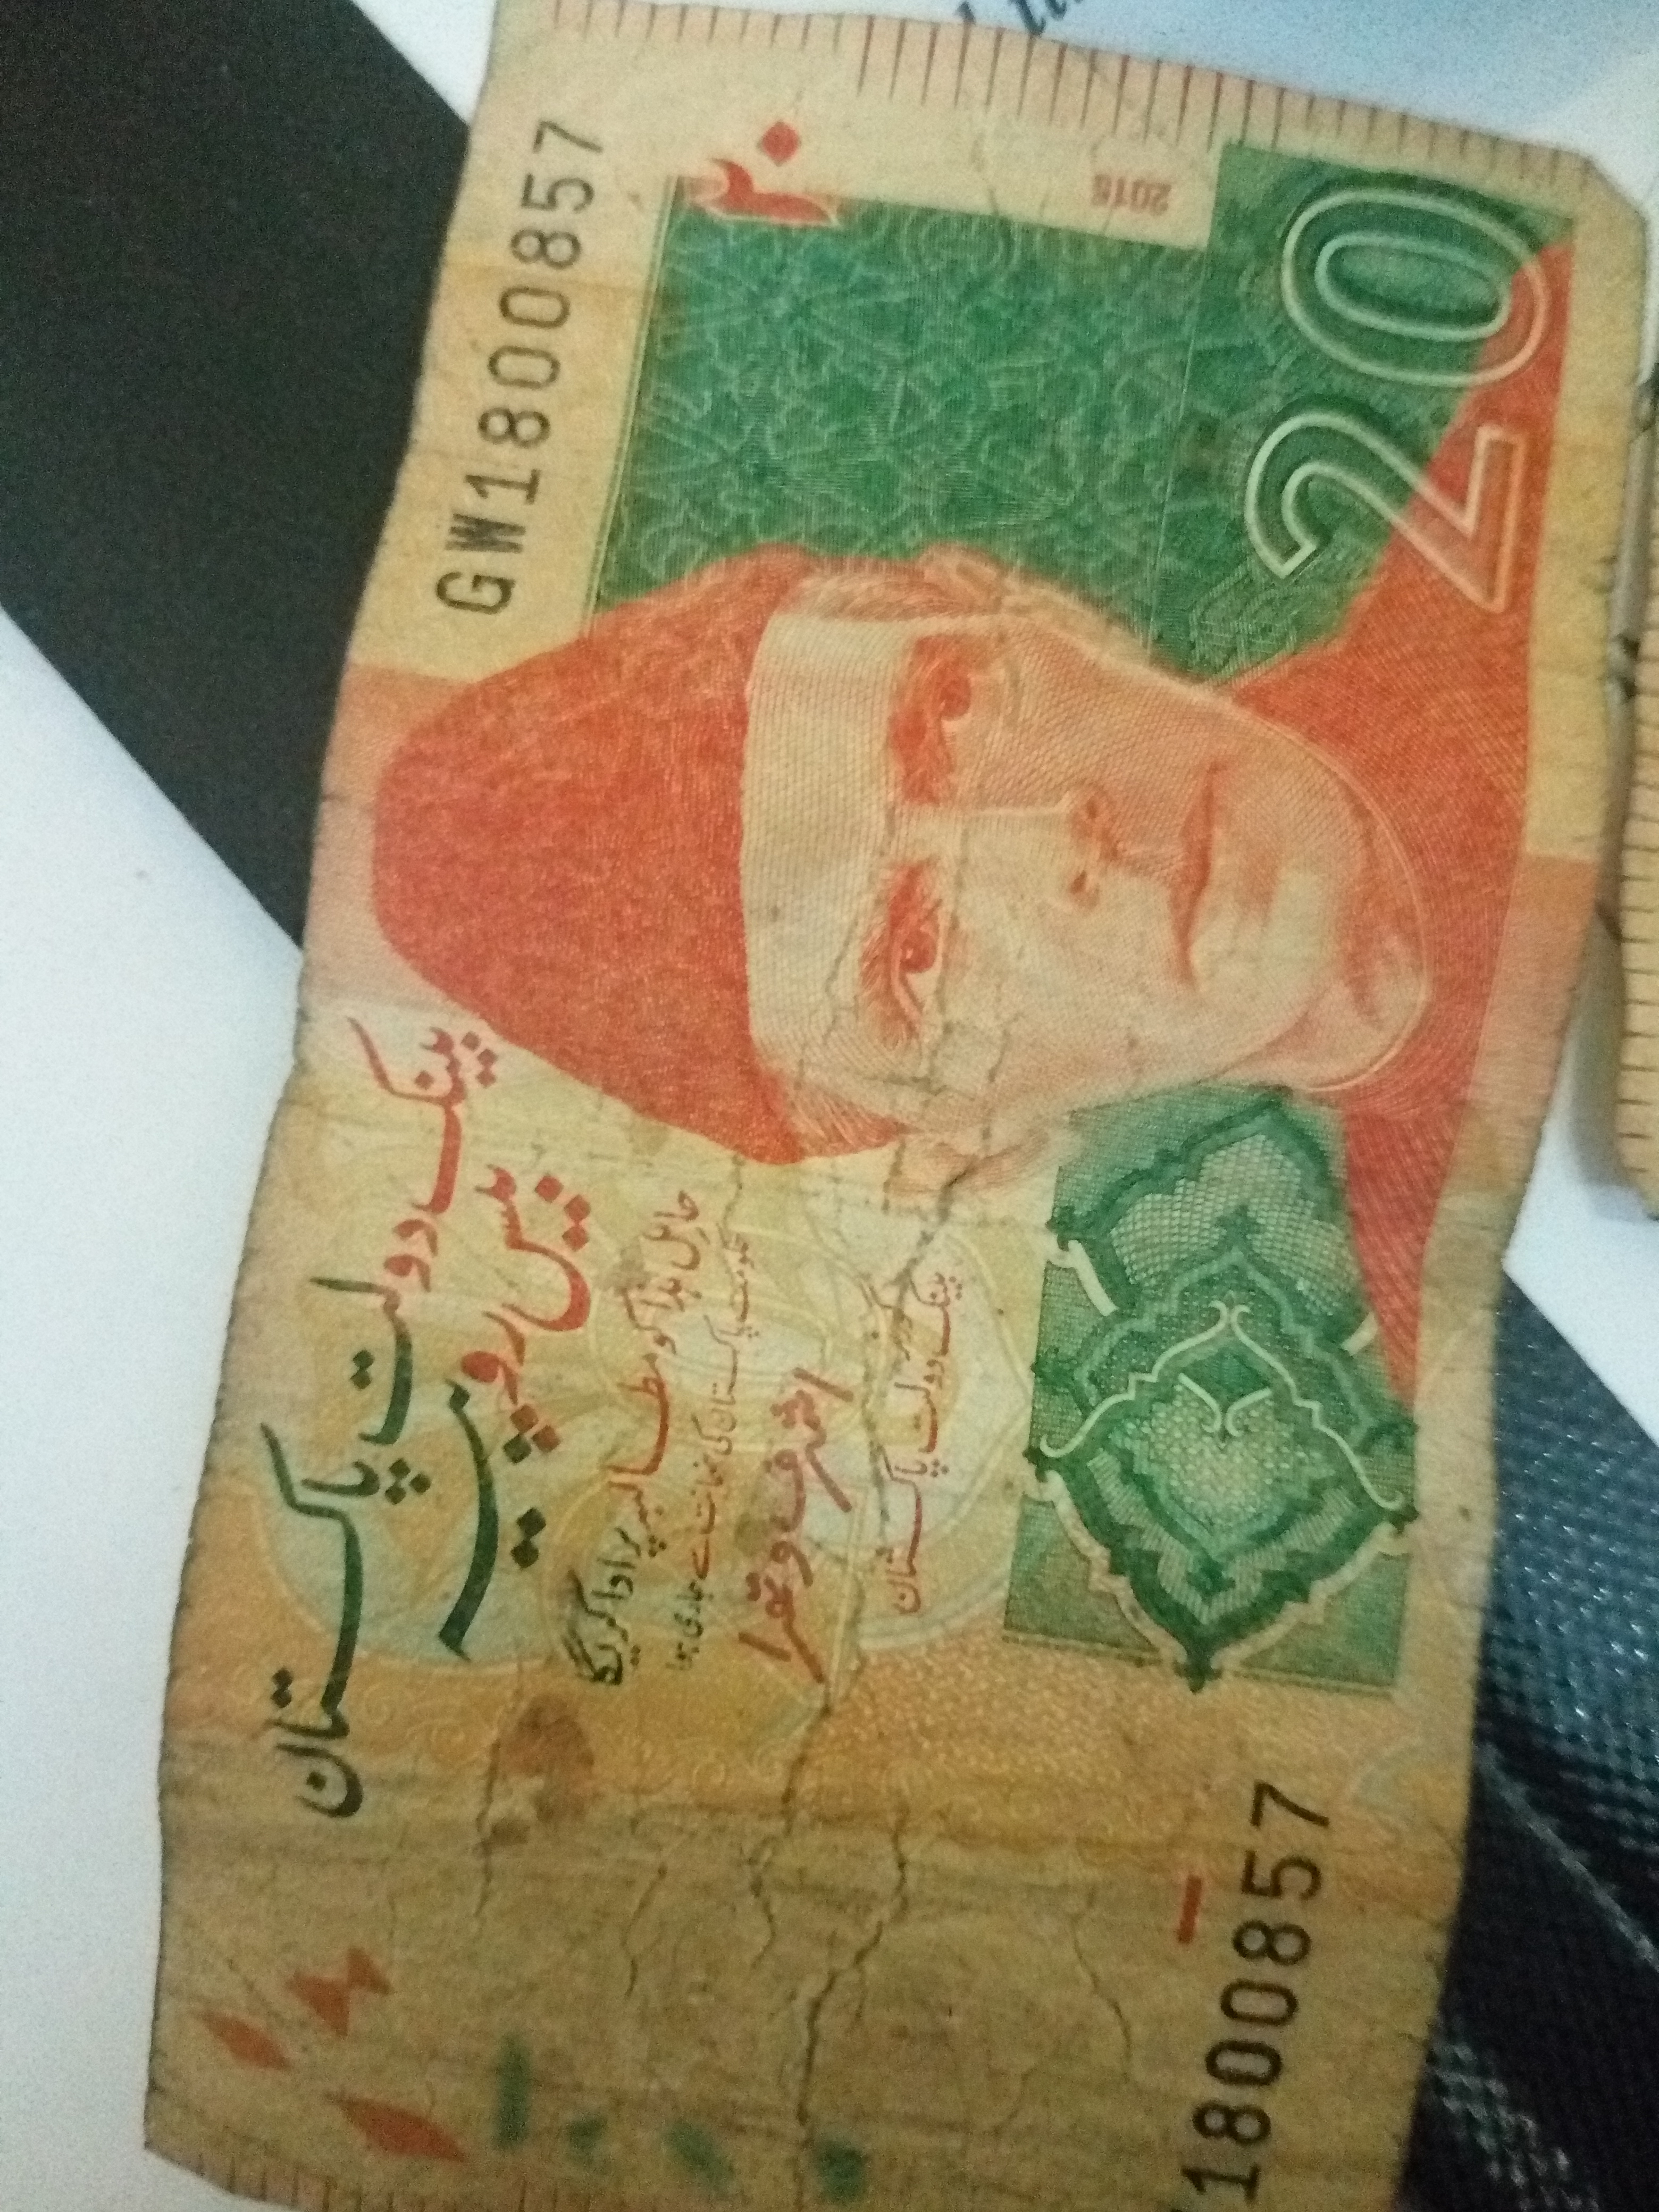20 rupee: (185, 56, 1610, 2198)
